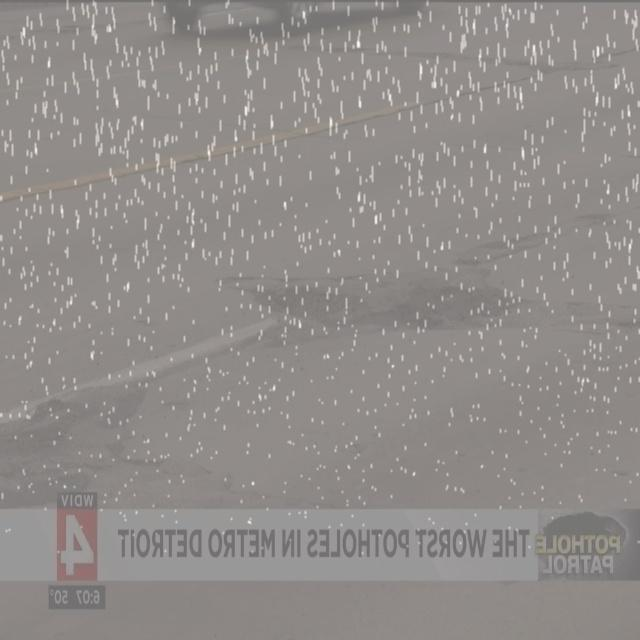Pothole: (206, 260, 574, 371), (0, 368, 168, 502), (482, 202, 622, 280)
